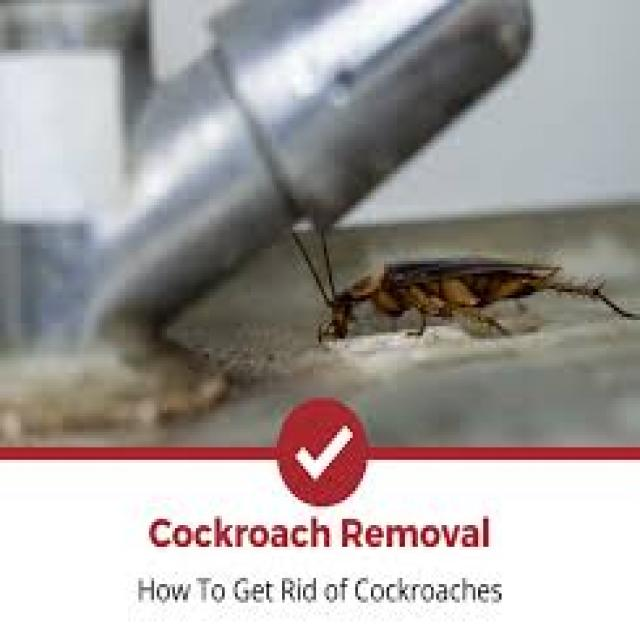Cockroach: (297, 200, 640, 382)
